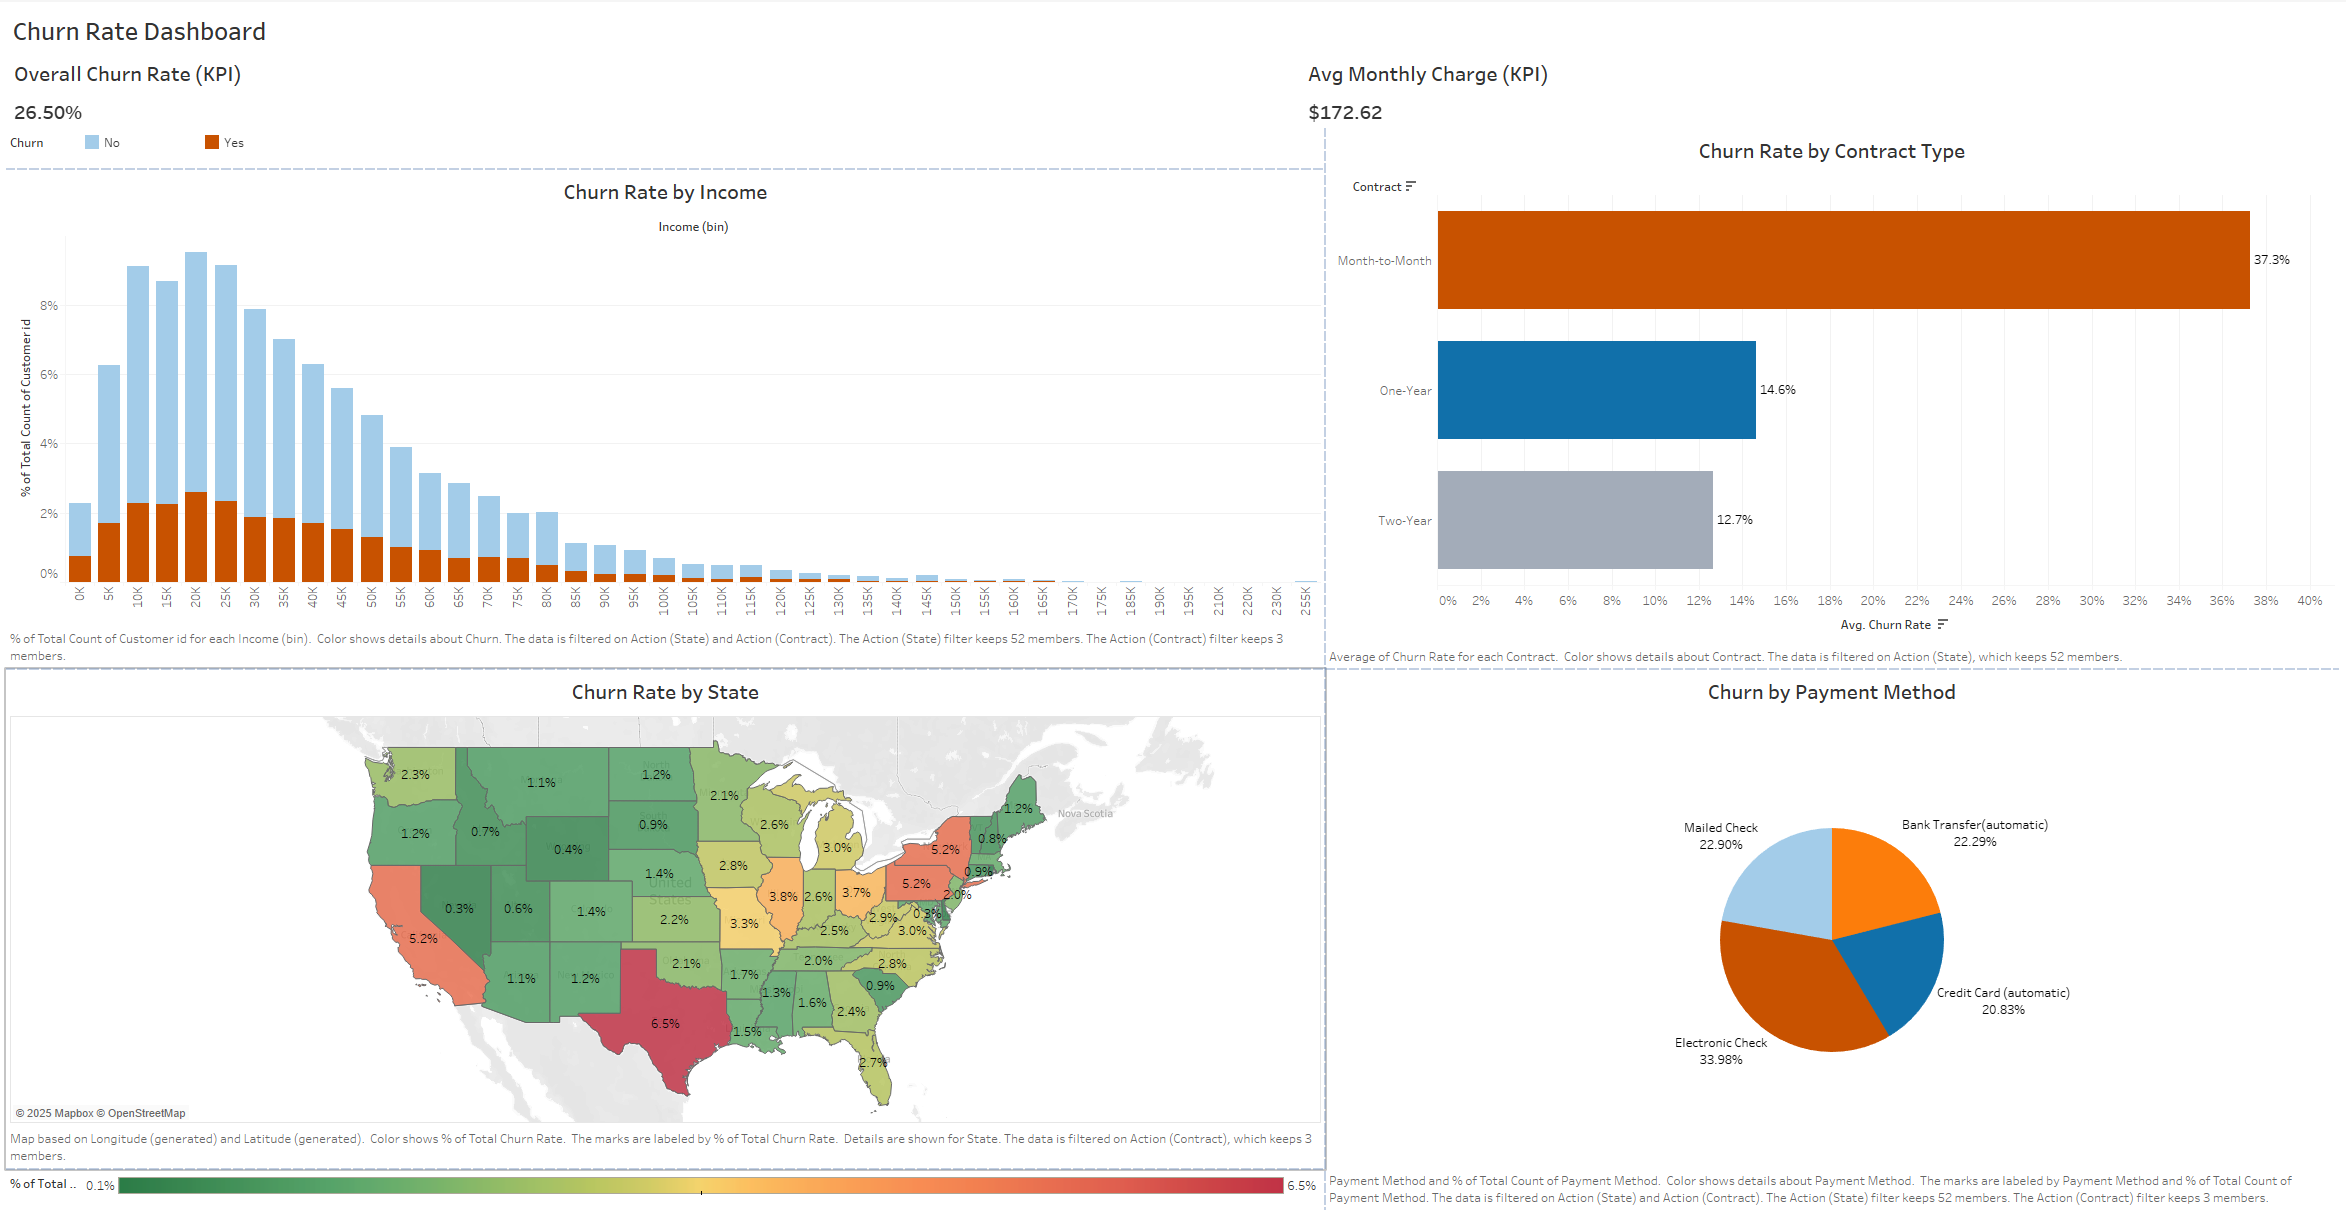

The dashboard page shown, as its layout file describes it:
{"tool":"tableau","page":{"name":"Customer Churn Dashboard: Key Trends by Income, Region, Contract & Payment","canvas":[1000,1000],"units":"permille","ordinal":0},"visuals":[{"type":"title","box":[3.4,6.6,993.2,33.7]},{"type":"worksheet","title":"Overall Churn Rate KPI","mark":"Text","box":[3.4,40.3,550.9,63.3]},{"type":"worksheet","title":"Avg Monthly Charge KPI","mark":"Automatic","box":[554.3,40.3,442.3,63.3]},{"type":"legend","title":"Customer Distribution by Income","param":"[federated.1xjvjre0pvrqhv138oz850u6dsxr].[none:Churn:nk]","box":[3.4,103.6,561.5,34.1]},{"type":"worksheet","title":"Churn Rate by Contract Type","mark":"Automatic","rows":["Contract"],"cols":["Calculation_517351020037636101"],"box":[564.9,103.6,431.7,444.8]},{"type":"worksheet","title":"Customer Distribution by Income","mark":"Automatic","rows":["Customer_id"],"cols":["Income (bin)"],"box":[3.4,137.7,561.5,410.7]},{"type":"worksheet","title":"Share of Churned Customers by State","mark":"Automatic","box":[3.4,548.4,561.5,411.1]},{"type":"worksheet","title":"Share of Churned Customers by Payment Method","mark":"Pie","box":[564.9,548.4,431.7,445]},{"type":"legend","title":"Share of Churned Customers by State","param":"[federated.1xjvjre0pvrqhv138oz850u6dsxr].[pcto:sum:Calculation_51735102003763610","box":[3.4,959.5,561.5,33.9]}]}

Visuals, with their boxes on the dashboard's canvas, which has no fixed pixel size, in thousandths of its width and height (x1, y1, x2, y2). These are canvas units, not pixel positions in the 2346x1215 screenshot, which may show the page scaled, cropped or inside an application window:
title: (3,7,997,40)
"Overall Churn Rate KPI" worksheet (Text marks): (3,40,554,104)
"Avg Monthly Charge KPI" worksheet: (554,40,997,104)
"Customer Distribution by Income" legend: (3,104,565,138)
"Churn Rate by Contract Type" worksheet: (565,104,997,548)
"Customer Distribution by Income" worksheet: (3,138,565,548)
"Share of Churned Customers by State" worksheet: (3,548,565,960)
"Share of Churned Customers by Payment Method" worksheet (Pie marks): (565,548,997,993)
"Share of Churned Customers by State" legend: (3,960,565,993)
